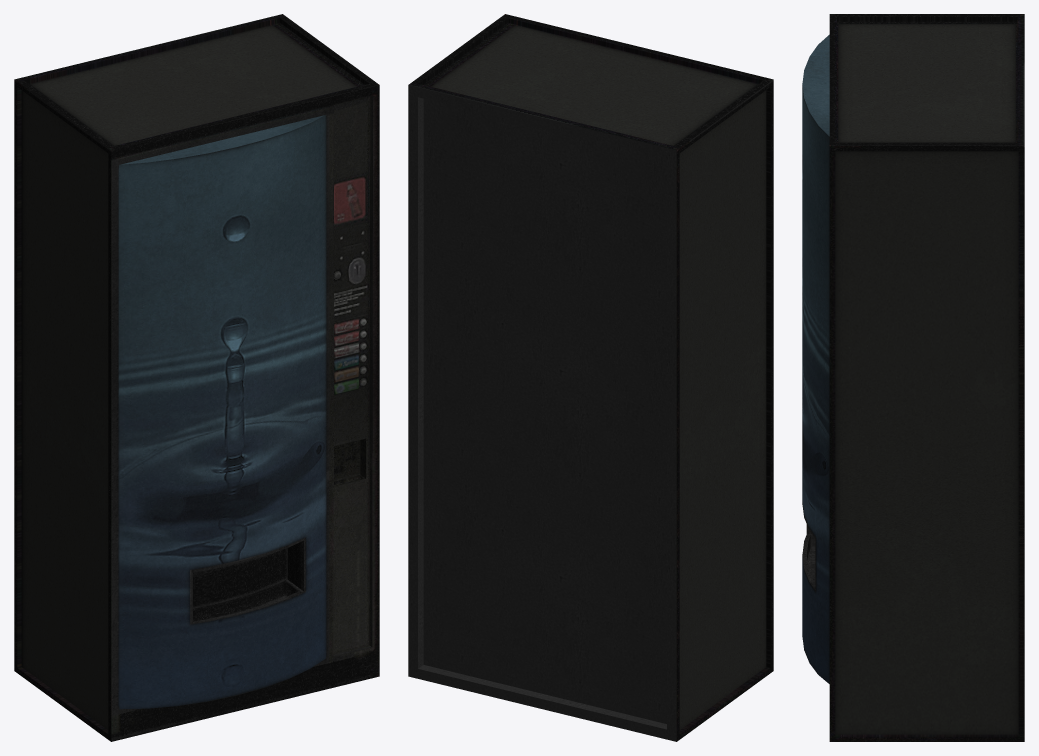
File: vending_machine_1.obj
3 views of the same model, side by side, from view 1: azimuth 30°, elevation 25°; view 2: azimuth 150°, elevation 25°; view 3: azimuth 270°, elevation 25° (orthographic).
Visible parts, largest first — view 1: vending_machine_1; view 2: vending_machine_1; view 3: vending_machine_1.
Part boxes in pixels (x1,y1,x2,y2): vending_machine_1: (14,14,379,741); vending_machine_1: (408,14,773,741); vending_machine_1: (802,14,1024,741).
Bounding box in the file's own units: 0.952 × 2.01 × 0.6778.
